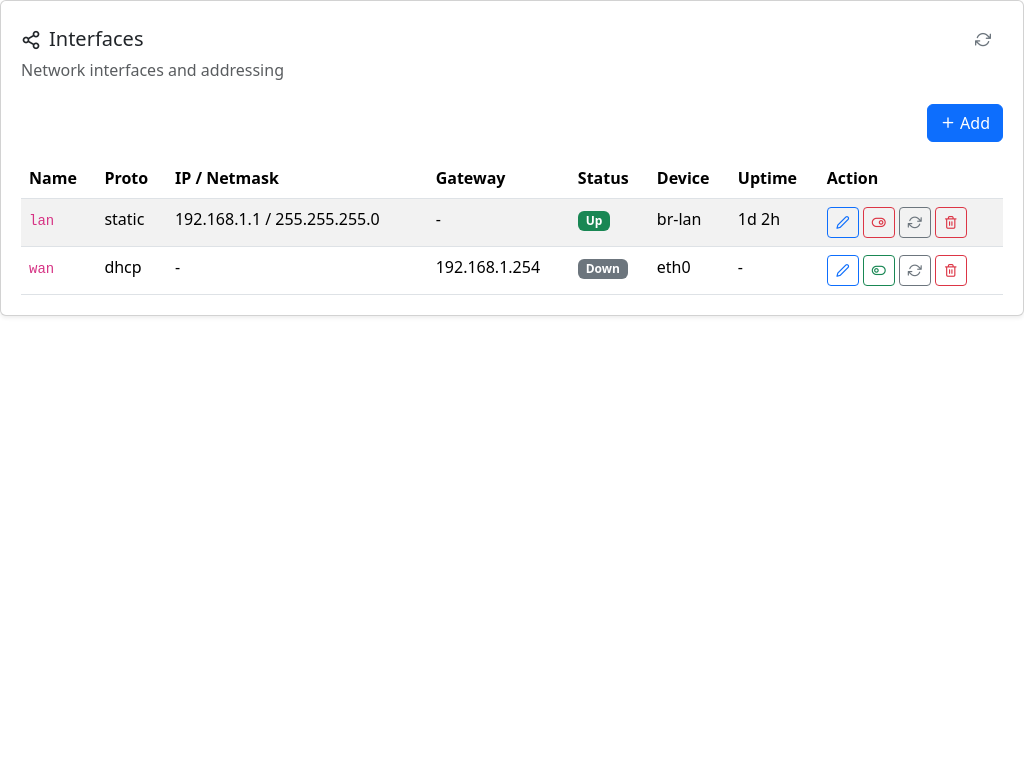
Test: InterfacesCard › opens the edit modal for the selected interface only
What coordinates should you click on to do the following:
click the button named "Edit" in the row of "wan"
I would click on:
 (843, 271)
Its box is [827, 255, 859, 286].
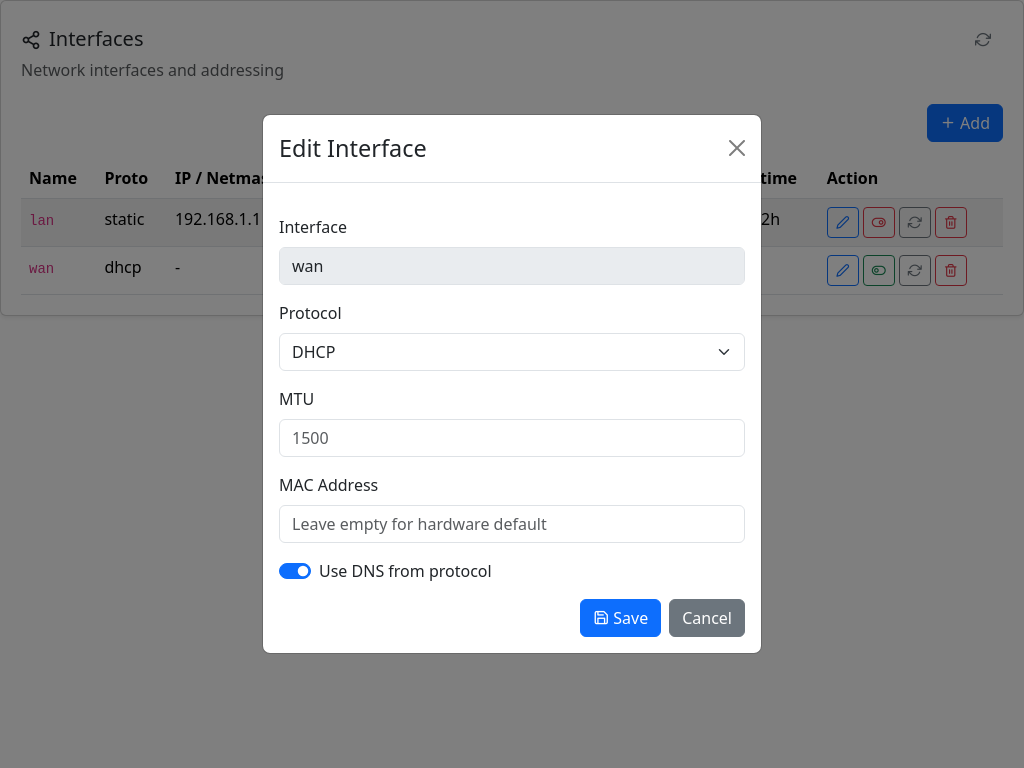
Expected: the text "Edit Interface" is shown, [279, 131, 427, 166]
Expected: the field showing "wan" is shown, [279, 247, 745, 285]
